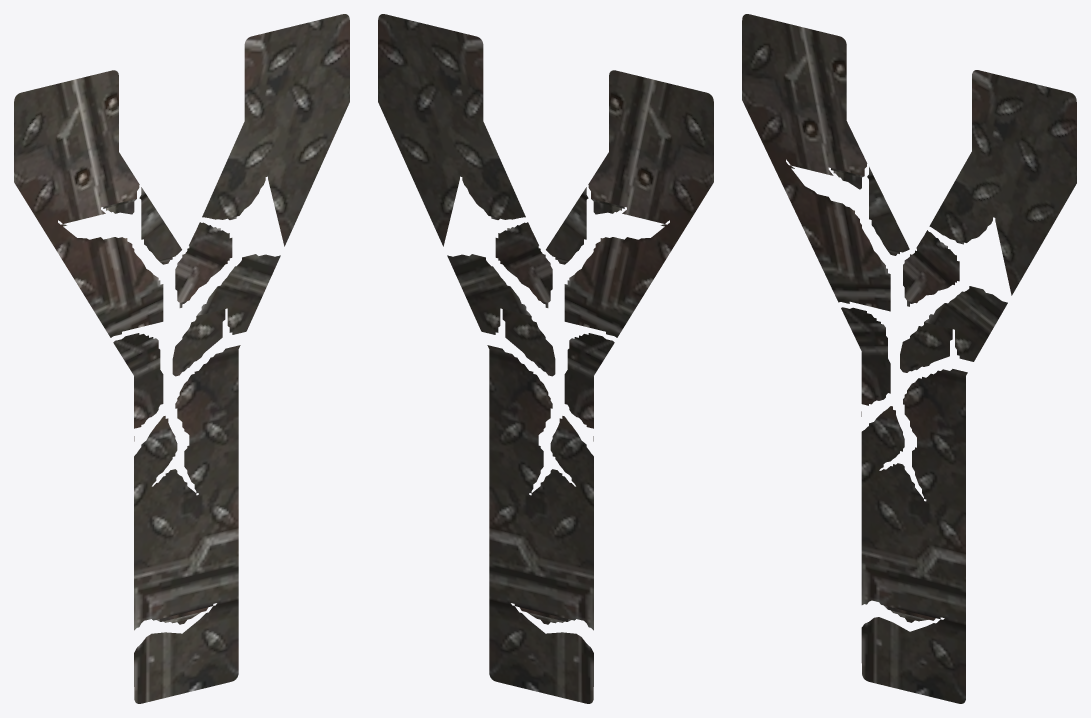
The picture shows the model from 3 angles, left to right: view 1: azimuth 30°, elevation 25°; view 2: azimuth 150°, elevation 25°; view 3: azimuth 330°, elevation 25°; orthographic projection.
Visible parts, largest first — view 1: Text.001; view 2: Text.001; view 3: Text.001.
Part boxes in pixels (x1,y1,x2,y2): Text.001: (14, 14, 349, 703); Text.001: (378, 14, 713, 703); Text.001: (742, 14, 1076, 703).
Bounding box in the file's own units: 0.1952 × 0.3558 × 8.33e-17.
1 material, 1 textured.
